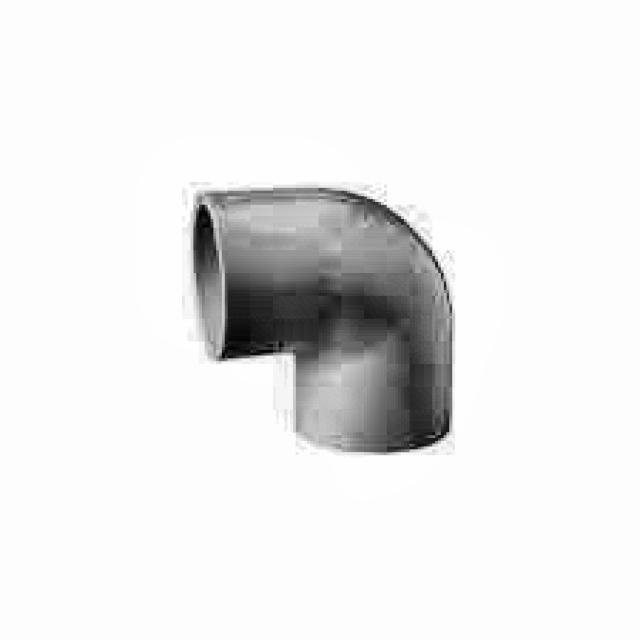ELBOW90: (188, 185, 458, 458)
